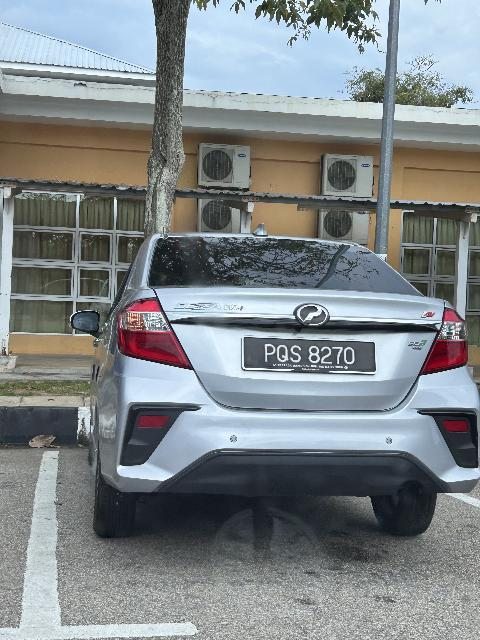License_Plate: (242, 336, 379, 374)
PQS8270: (242, 336, 379, 374)
car: (59, 215, 480, 554)
